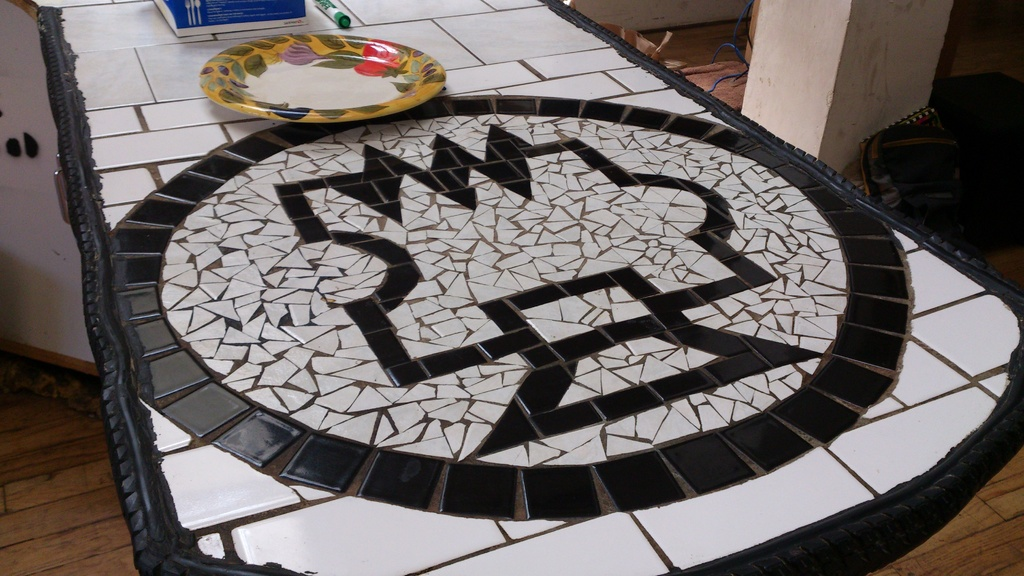plate: (193, 19, 419, 99)
